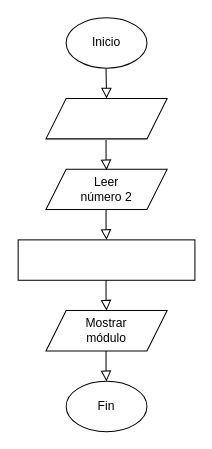
This 212x449 diagram has some shape labels left out. Here are the shapes that lost their labels. From the top down, the box of each, then its label:
(45, 97, 167, 139): Leer número 1
(17, 239, 195, 280): número 1 % número 2
